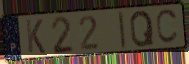2: (50, 15, 75, 55), (78, 14, 98, 51)
C: (155, 7, 180, 46)
I: (117, 10, 128, 51)
K: (24, 18, 47, 55)
Q: (129, 9, 156, 49)
